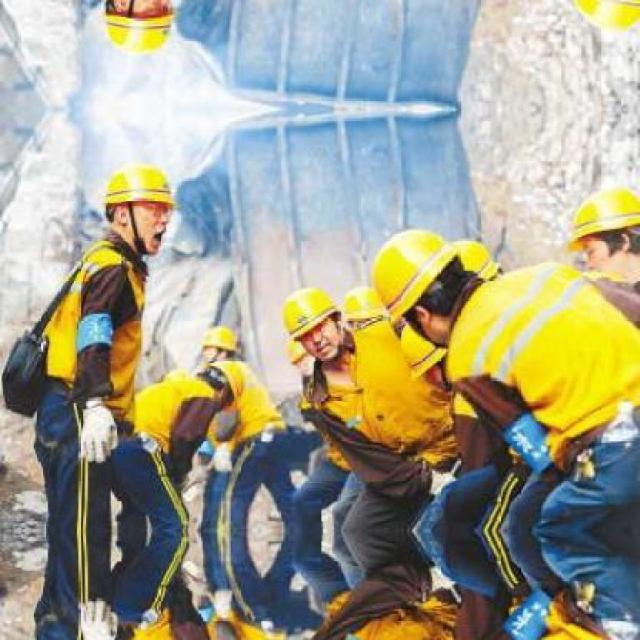Reflective-Jacket: (443, 262, 639, 432), (35, 240, 158, 417), (303, 324, 451, 458), (121, 366, 228, 462), (203, 358, 289, 452)
Safety-Helmet: (362, 223, 464, 323), (89, 152, 189, 220), (558, 178, 640, 254), (270, 280, 348, 345), (189, 318, 249, 362)
